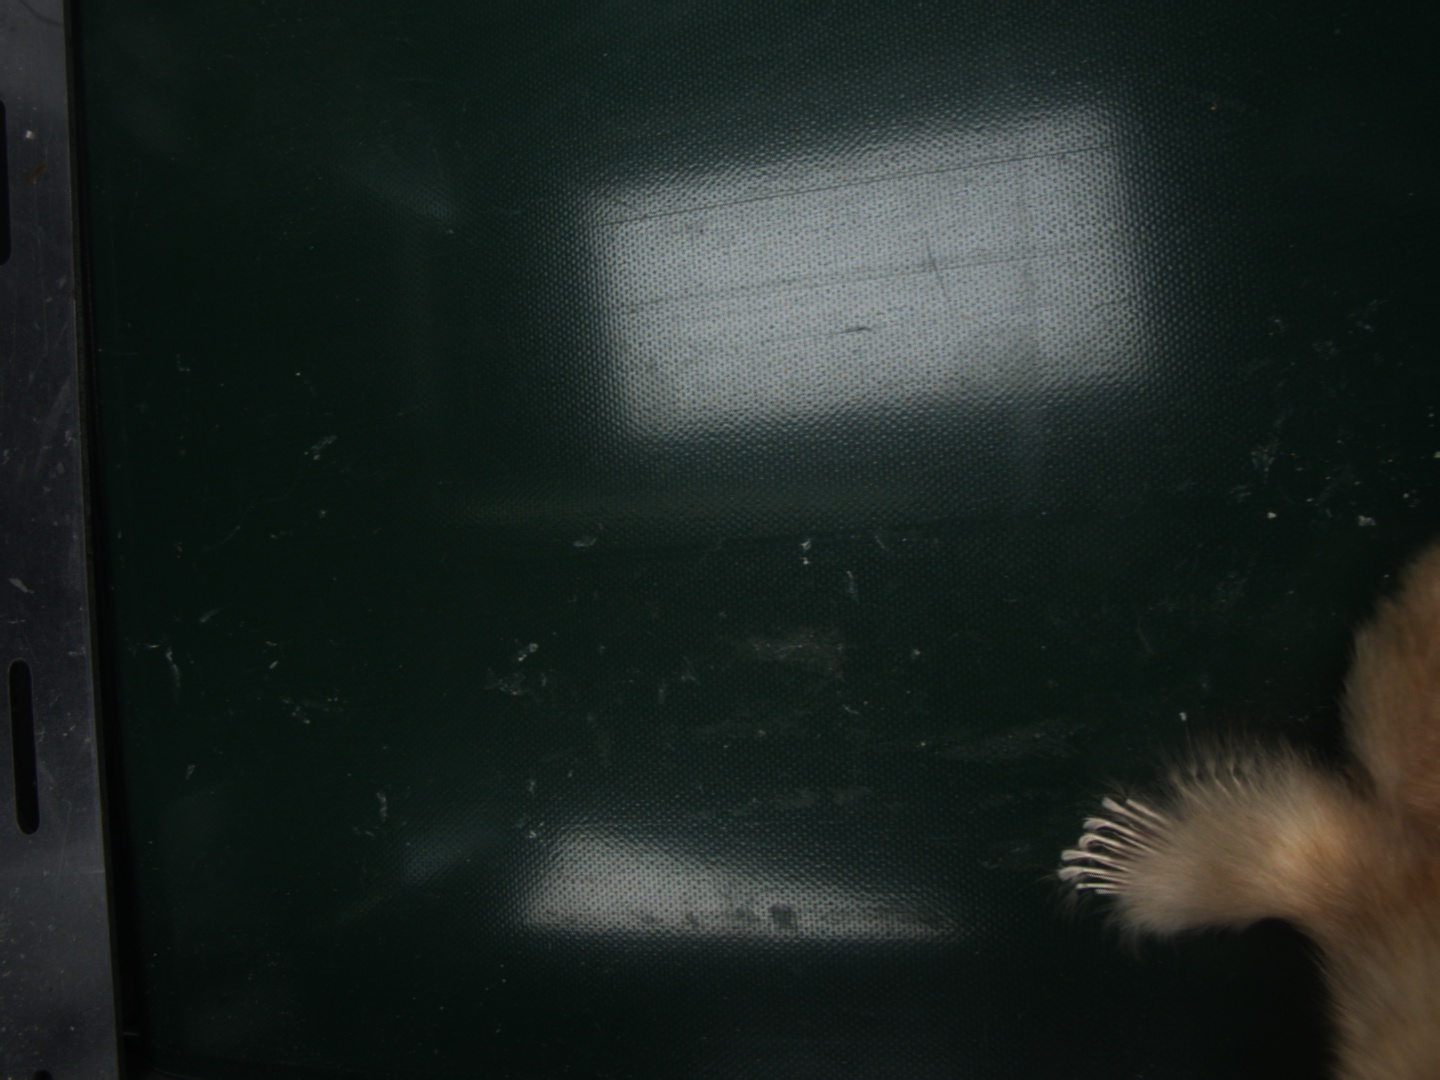female: (1061, 794, 1174, 898)
